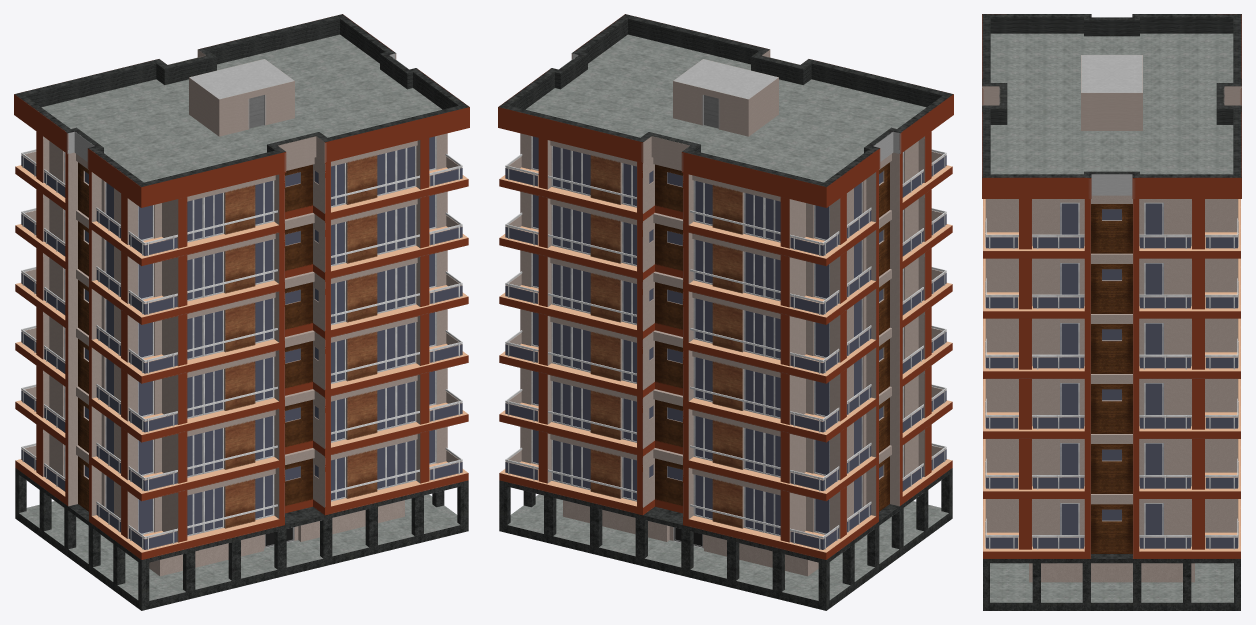
The model's file is modern_residential_building.glb.
The picture shows the model from 3 angles, left to right: view 1: azimuth 30°, elevation 25°; view 2: azimuth 150°, elevation 25°; view 3: azimuth 270°, elevation 25°; orthographic projection. The views are drawn at different scales.
Parts seen in each view (by area): view 1: Object_3, Object_4; view 2: Object_3, Object_4; view 3: Object_3, Object_4.
Part boxes in pixels (x1=…): Object_3: x1=15, y1=131, x2=468, y2=559; Object_4: x1=14, y1=14, x2=469, y2=610; Object_3: x1=499, y1=131, x2=952, y2=559; Object_4: x1=498, y1=14, x2=953, y2=610; Object_3: x1=983, y1=195, x2=1240, y2=558; Object_4: x1=982, y1=14, x2=1241, y2=610.
Size of the model in its own units: 23.93 by 31.01 by 16.04.
2 materials, 2 textured.
